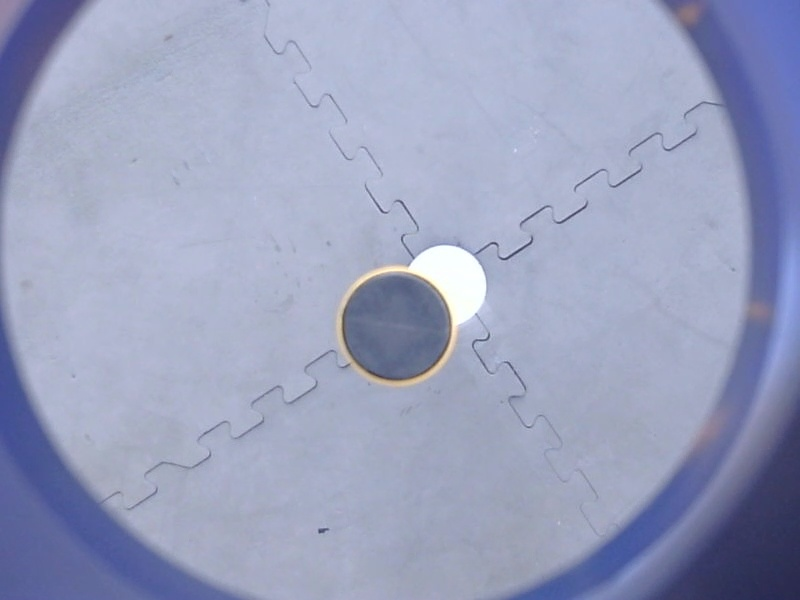tip: (333, 262, 460, 395)
